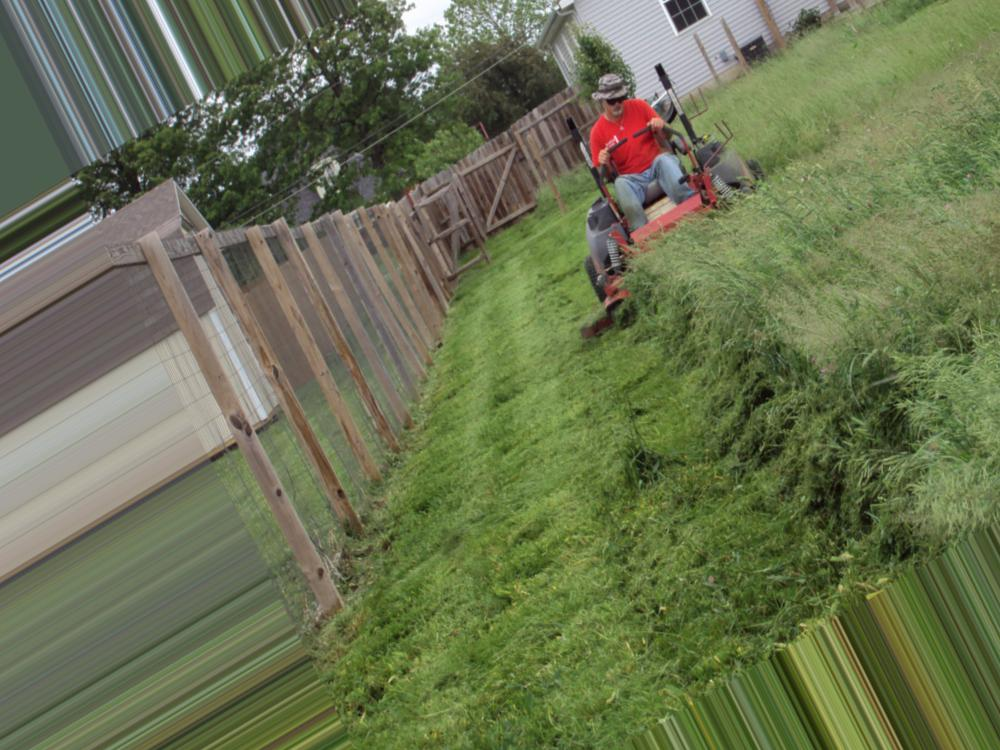patch: (796, 300, 856, 353)
